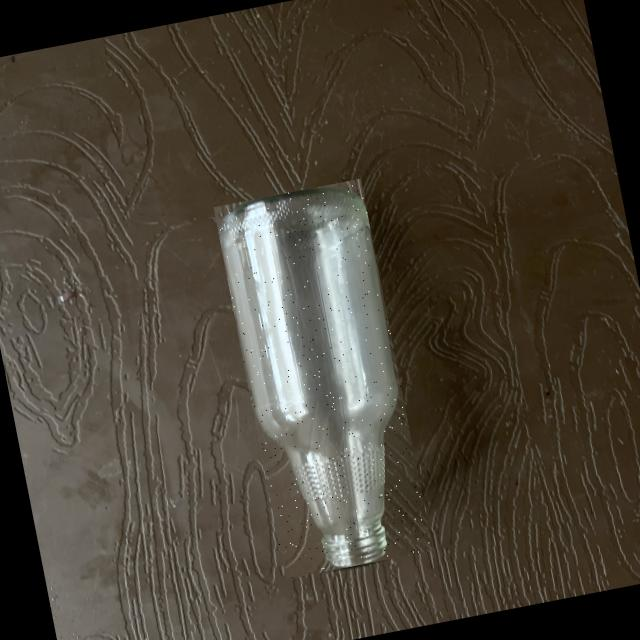Glass_Bottle: (219, 188, 396, 566)
